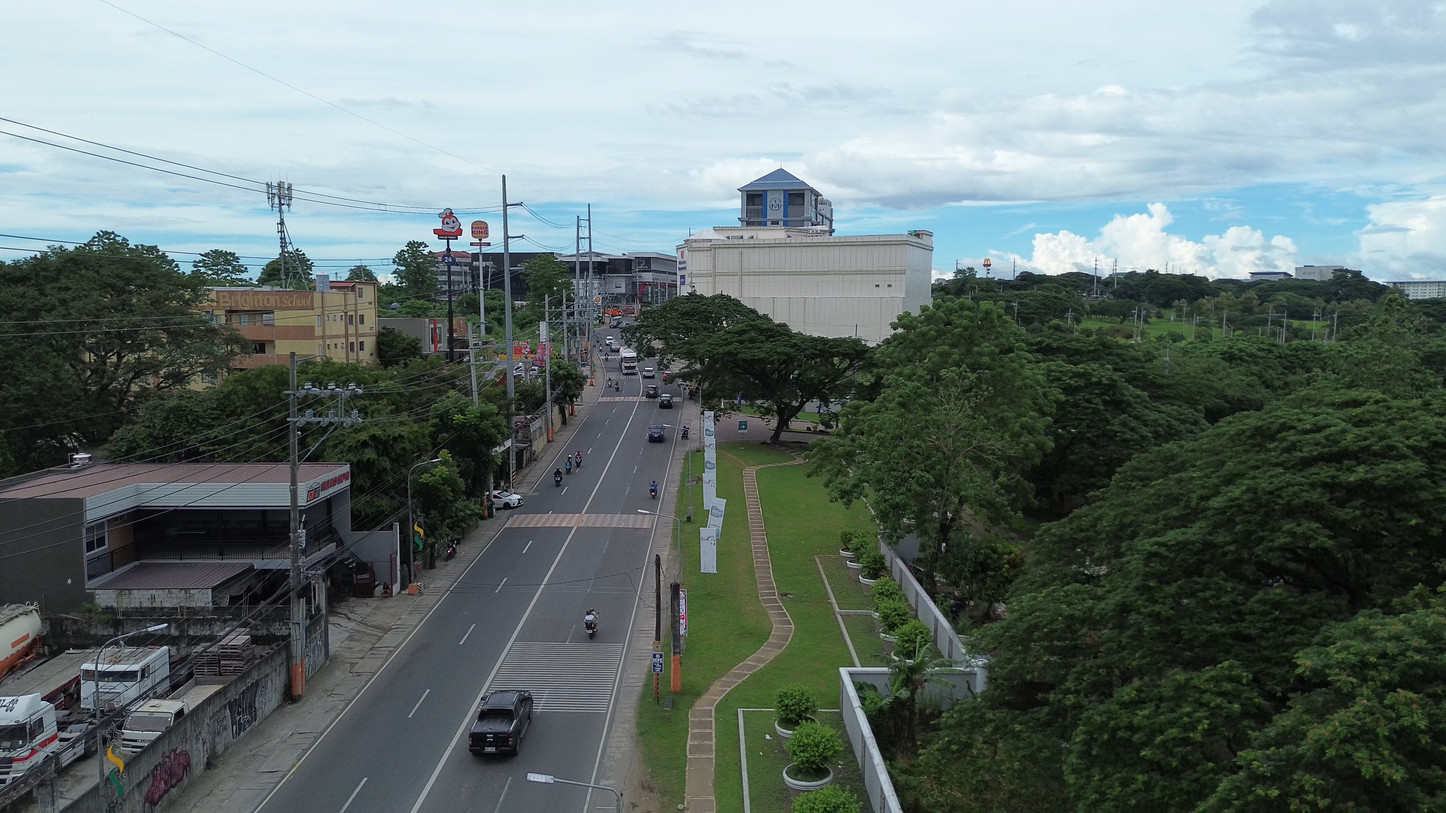car: (489, 490, 523, 508), (647, 425, 665, 442), (658, 393, 673, 408), (644, 384, 659, 399), (642, 367, 655, 378)
motorcycle: (584, 609, 598, 639), (444, 541, 456, 560), (554, 470, 563, 486), (650, 481, 658, 499), (575, 451, 582, 470), (564, 458, 572, 474), (681, 426, 689, 439)
vehicle: (0, 694, 86, 787), (79, 646, 169, 711), (469, 690, 533, 755), (117, 699, 189, 754), (0, 604, 40, 677), (619, 347, 637, 375), (584, 609, 598, 639), (444, 540, 456, 560), (554, 469, 563, 487), (650, 481, 658, 499), (681, 425, 689, 439)
